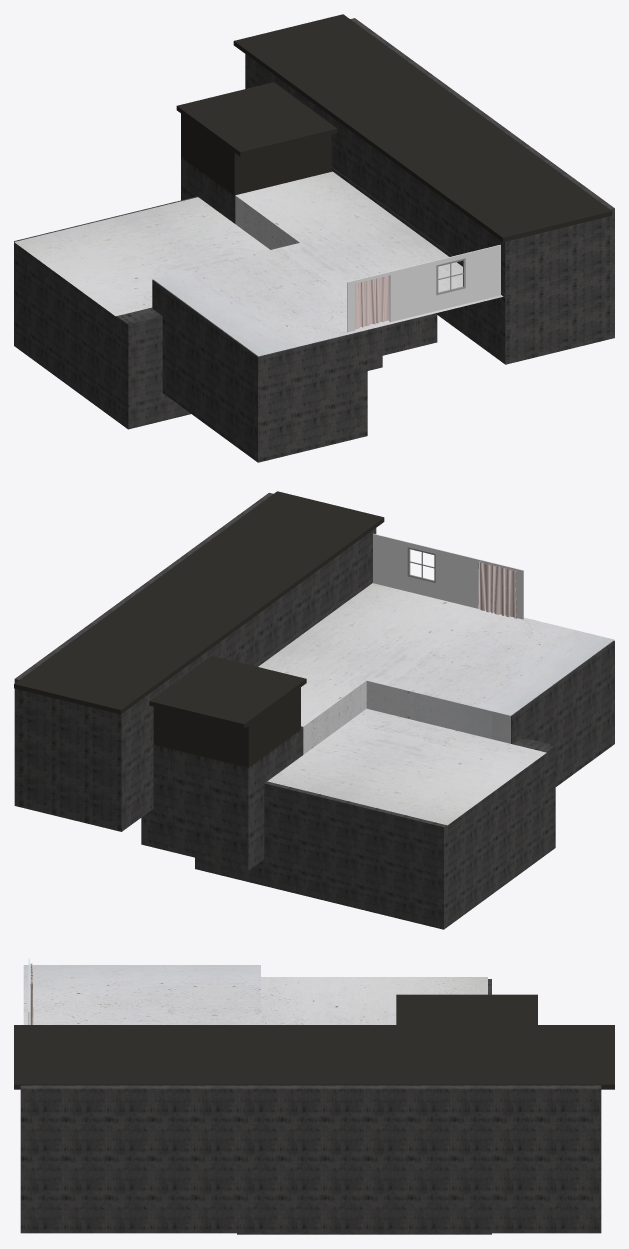
File: ResearchArchitecture.fbx
The picture shows the model from 3 angles, top to bottom: view 1: azimuth 30°, elevation 25°; view 2: azimuth 150°, elevation 25°; view 3: azimuth 270°, elevation 25°; orthographic projection. The views are drawn at different scales.
Visible parts, largest first — view 1: patio_floor, pCube293, pCube291, pCube294, pCube295, pCube290, pCube289, patio_wall, pCube287, curtain; view 2: patio_floor, pCube295, pCube293, pCube291, pCube287, pCube294, pCube290, pCube289, patio_wall, curtain; view 3: pCube291, pCube293, patio_floor, pCube290, pCube295.
Boxes of the visible parts, left/top/right/bottom form: patio_floor: left=14, top=171, right=503, bottom=356; pCube293: left=233, top=14, right=612, bottom=242; pCube291: left=245, top=18, right=614, bottom=364; pCube294: left=152, top=279, right=367, bottom=462; pCube295: left=14, top=196, right=382, bottom=429; pCube290: left=176, top=82, right=337, bottom=156; pCube289: left=181, top=113, right=331, bottom=195; patio_wall: left=347, top=244, right=500, bottom=332; pCube287: left=181, top=157, right=437, bottom=359; curtain: left=355, top=275, right=389, bottom=329; patio_floor: left=258, top=583, right=614, bottom=825; pCube295: left=195, top=737, right=555, bottom=929; pCube293: left=14, top=491, right=384, bottom=714; pCube291: left=14, top=493, right=376, bottom=831; pCube287: left=141, top=726, right=303, bottom=870; pCube294: left=511, top=640, right=614, bottom=786; pCube290: left=149, top=655, right=306, bottom=728; pCube289: left=153, top=687, right=300, bottom=767; patio_wall: left=373, top=533, right=523, bottom=619; curtain: left=478, top=561, right=516, bottom=618; pCube291: left=20, top=1085, right=601, bottom=1233; pCube293: left=14, top=1025, right=614, bottom=1089; patio_floor: left=23, top=965, right=487, bottom=1024; pCube290: left=396, top=994, right=537, bottom=1024; pCube295: left=237, top=979, right=491, bottom=1234.
Size of the model in its own units: 2276 by 1097 by 2708.
8 materials, 3 textured.
